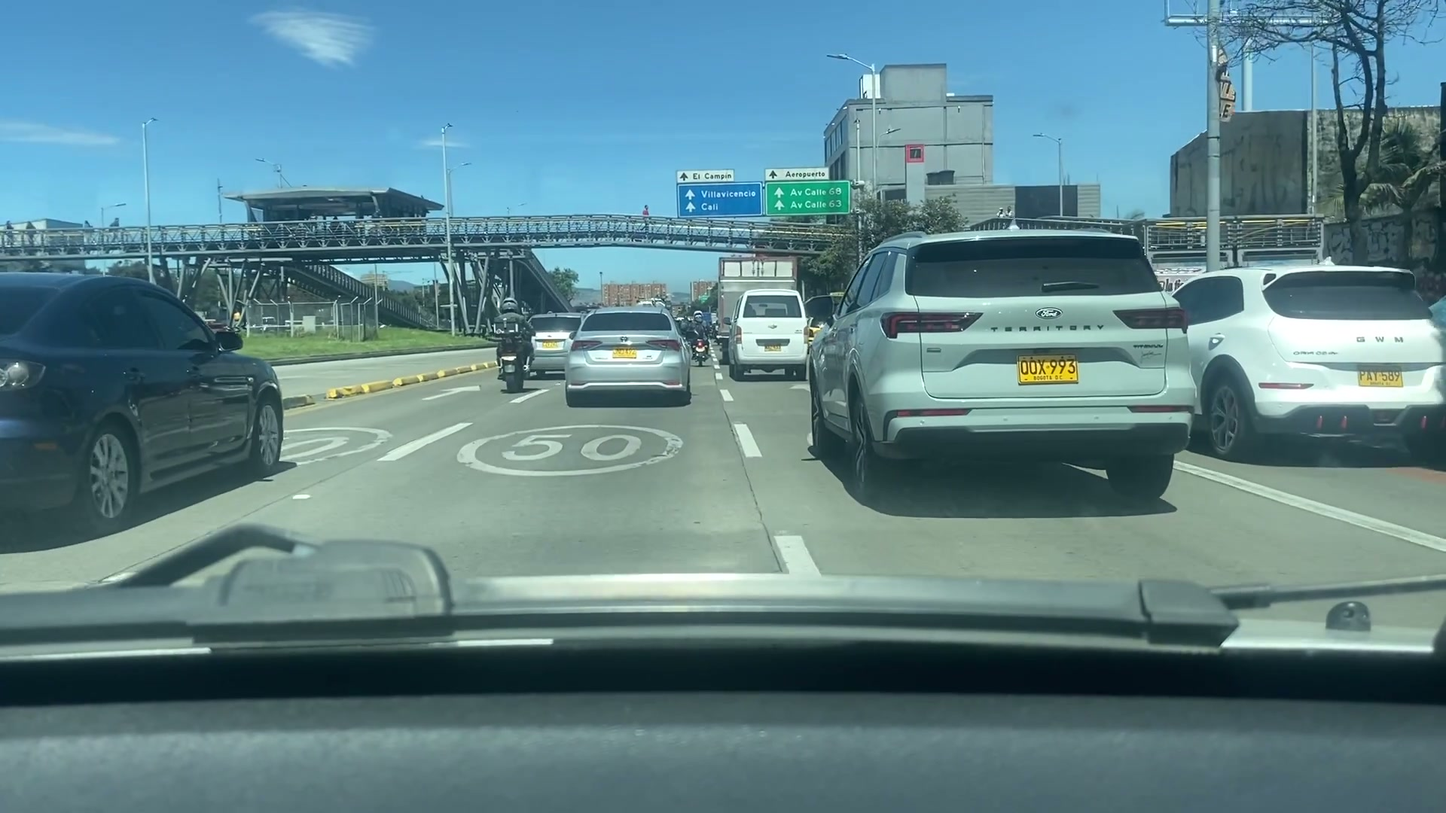bus: (725, 287, 814, 382)
car: (817, 226, 1199, 488), (1, 267, 309, 532), (1149, 263, 1446, 454), (565, 310, 696, 404), (527, 310, 585, 375)
motorcycle: (494, 345, 531, 394), (690, 326, 713, 362)
person: (490, 293, 533, 376), (684, 303, 711, 365)
